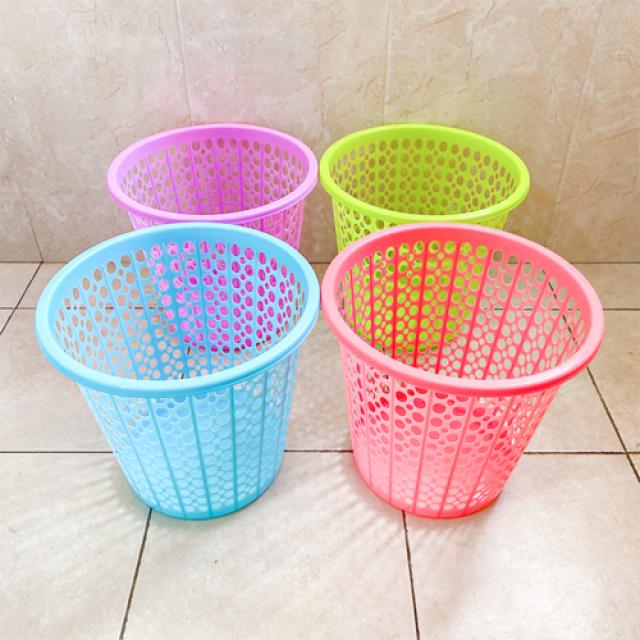dustbin: (31, 220, 320, 524), (315, 226, 609, 524), (317, 119, 535, 358)
